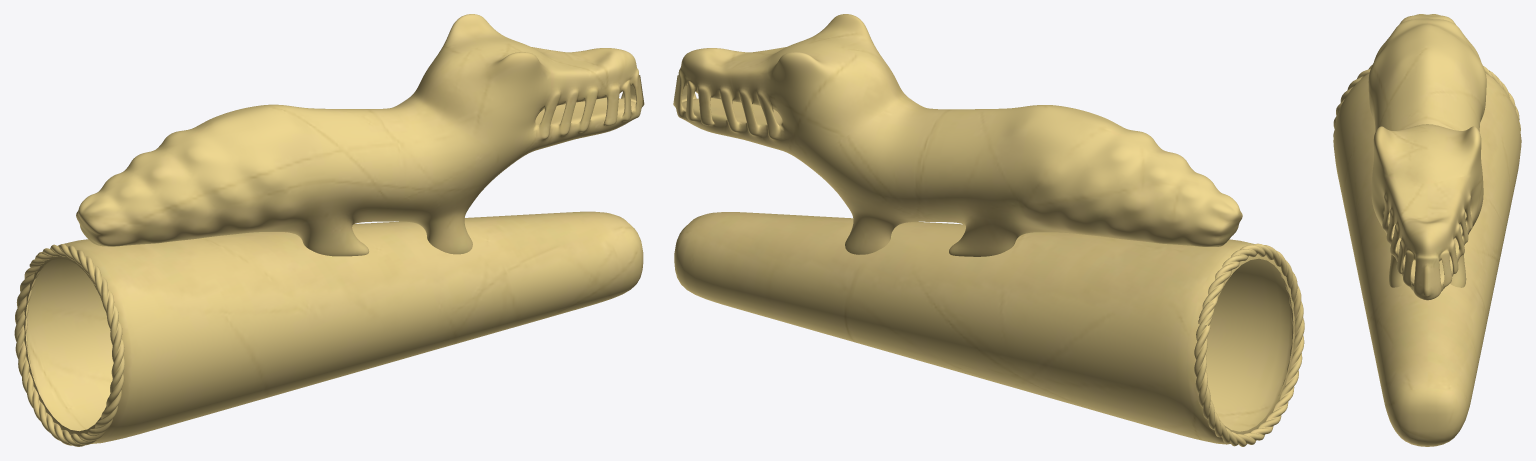
File: zenu_-_remate_de_baston_horizontal_zoomorfo.glb
3 renders of one model, left to right at view 1: azimuth 30°, elevation 25°; view 2: azimuth 150°, elevation 25°; view 3: azimuth 270°, elevation 25°, orthographic. The views are drawn at different scales.
Visible parts, largest first — view 1: Cylinder, Cylinder.001, Circle.009; view 2: Cylinder, Cylinder.001, Circle.009; view 3: Cylinder, Cylinder.001, Circle.009.
Boxes of the visible parts, x1,y1,x2,y2 form: Cylinder: (23,211,643,443); Cylinder.001: (76,14,644,256); Circle.009: (14,244,124,446); Cylinder: (674,212,1295,444); Cylinder.001: (673,14,1242,256); Circle.009: (1194,243,1304,446); Cylinder: (1333,72,1521,446); Cylinder.001: (1368,14,1486,300); Circle.009: (1333,65,1520,136).
Bounding box in the file's own units: 6.17 × 3.02 × 1.85.
Materials: 1 (1 with a texture image).
